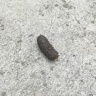Dog: (36, 35, 60, 61)
